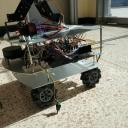cart: (2, 26, 104, 108)
